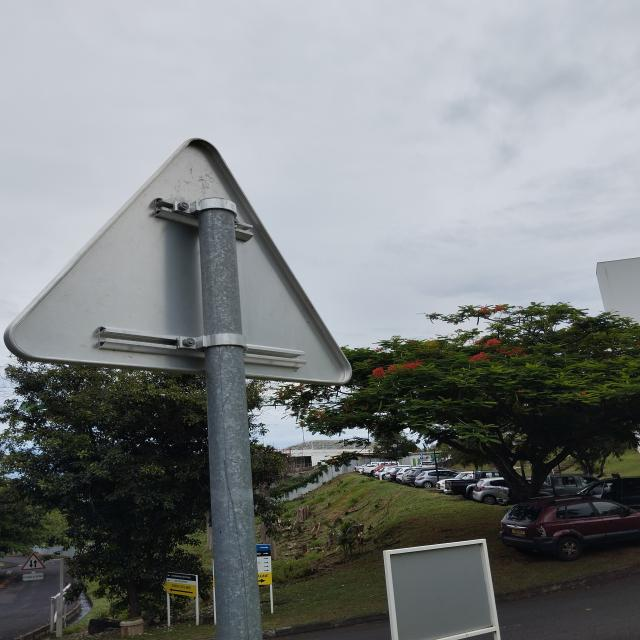Panneau: (4, 129, 358, 392)
